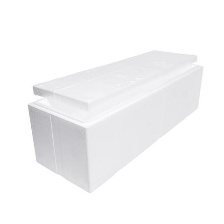foam_box: (20, 45, 206, 195)
